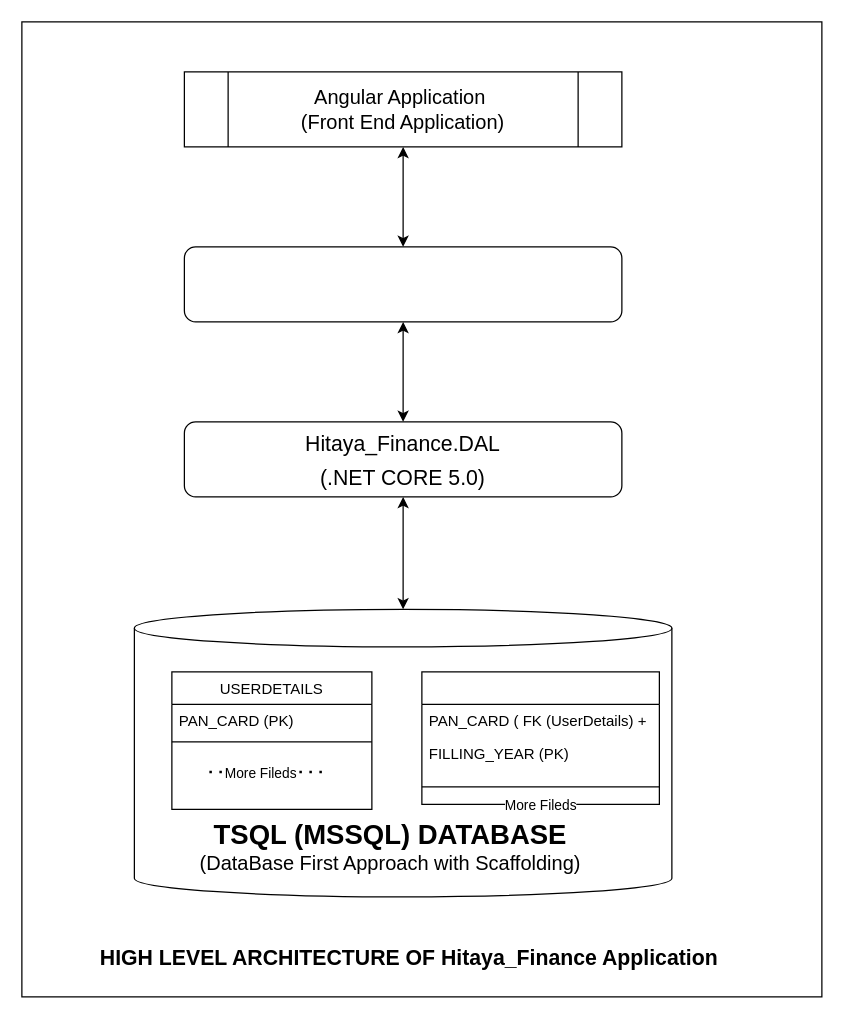
This 844x1019 diagram has some shape labels left out. The shapes that lost their labels are listed below. From the top down, each one's box as (x1, y1, x2, y2) in pixels, then its label:
(183, 246, 622, 322): Hitaya_Finance.SerciceLayer (ASP .NET CORE WEB API)
(421, 671, 659, 804): TAX_FILLING
